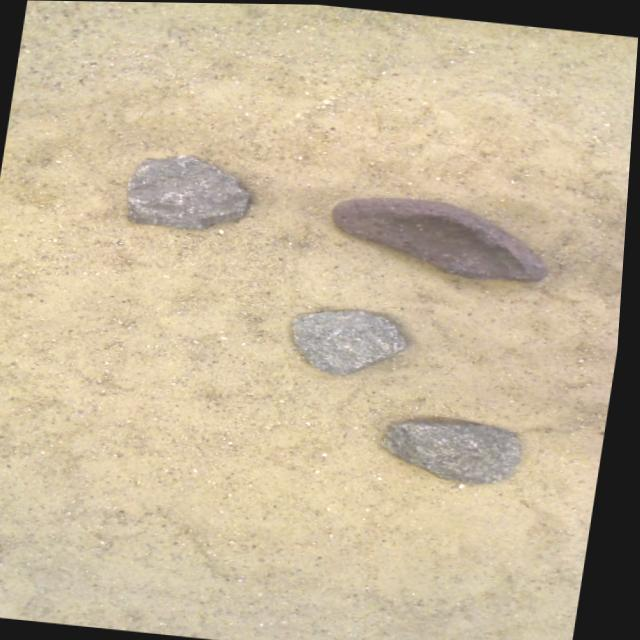rock: (334, 195, 550, 278), (130, 153, 251, 227), (387, 419, 526, 480), (296, 308, 409, 372)
